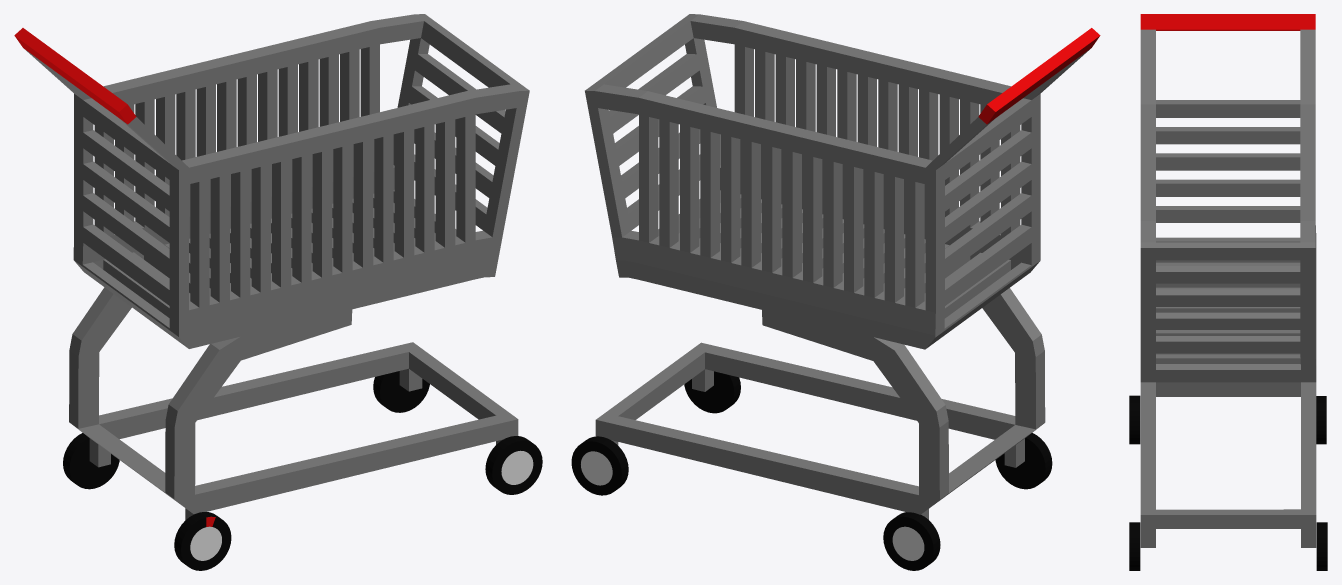
Rendered from ShoppingCart.fbx.
The picture shows the model from 3 angles, left to right: view 1: azimuth 30°, elevation 25°; view 2: azimuth 150°, elevation 25°; view 3: azimuth 270°, elevation 25°; orthographic projection. The views are drawn at different scales.
Visible parts, largest first — view 1: Cube; view 2: Cube; view 3: Cube.
Boxes of the visible parts, x1,y1,x2,y2 form: Cube: (14,14,542,570); Cube: (571,14,1100,570); Cube: (1129,14,1327,570).
Size of the model in its own units: 5254 by 5764 by 2598.
